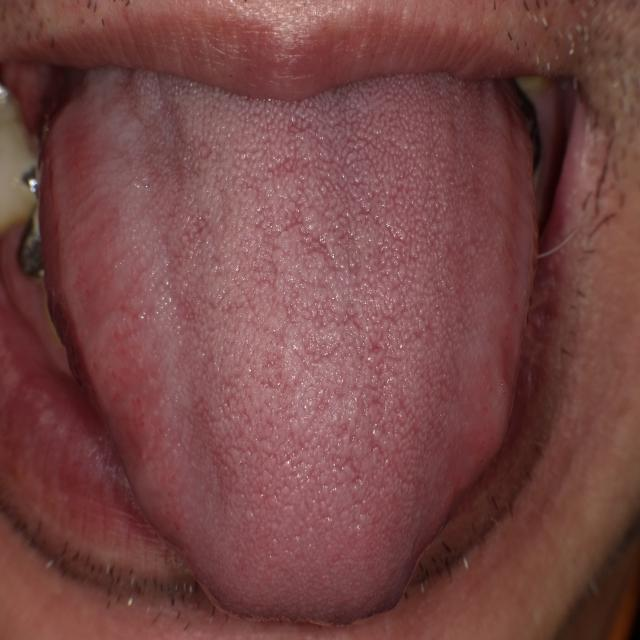baitaishe: (44, 66, 539, 624)
gandanao: (48, 81, 239, 527)
